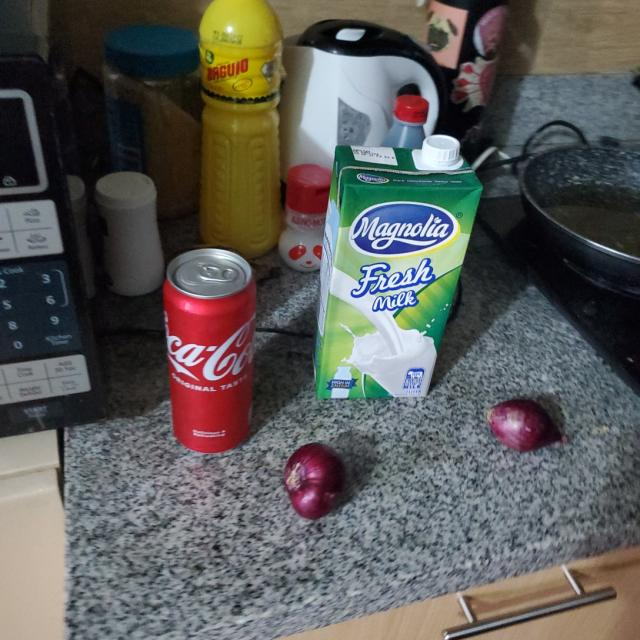coke: (163, 247, 257, 454)
milk: (314, 135, 479, 399)
onion: (278, 441, 353, 519), (485, 396, 563, 455)
